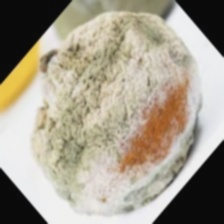orange: (5, 29, 206, 186)
